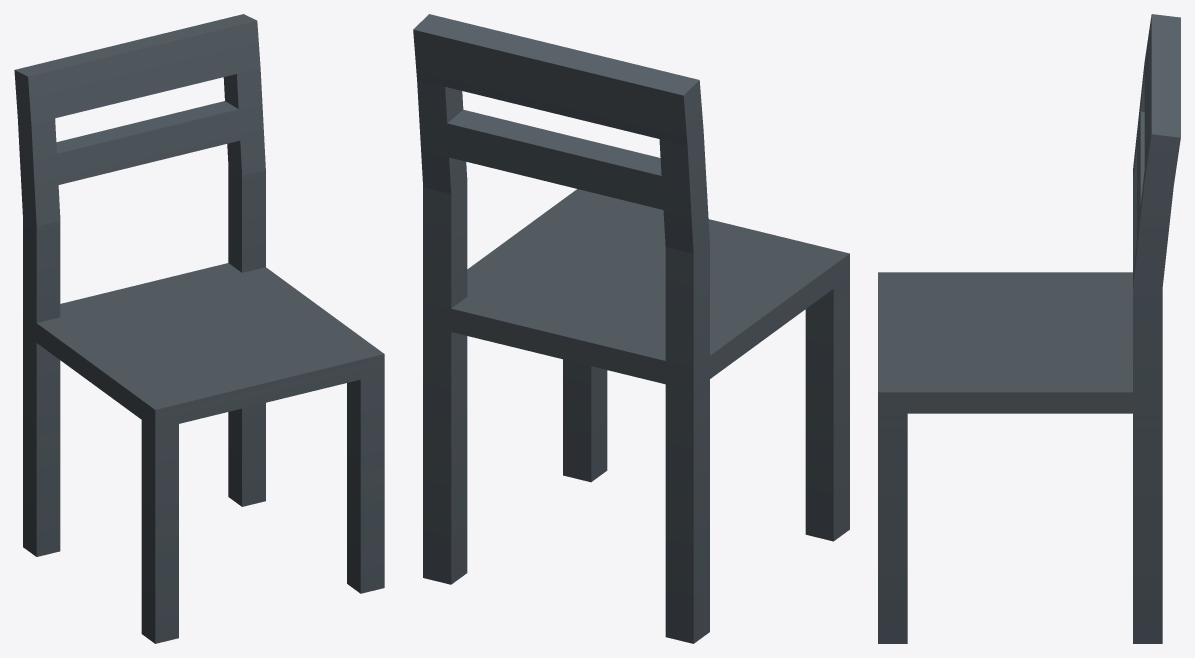
Rendered from Chair_07.fbx.
3 views of the same model, side by side, from view 1: azimuth 30°, elevation 25°; view 2: azimuth 150°, elevation 25°; view 3: azimuth 270°, elevation 25° (orthographic). The views are drawn at different scales.
Parts seen in each view (by area): view 1: Chair_07; view 2: Chair_07; view 3: Chair_07.
Part boxes in pixels (<box>): Chair_07: <box>14,14,384,643</box>; Chair_07: <box>413,14,849,643</box>; Chair_07: <box>878,14,1180,643</box>.
Size of the model in its own units: 50.09 by 99 by 53.3.
